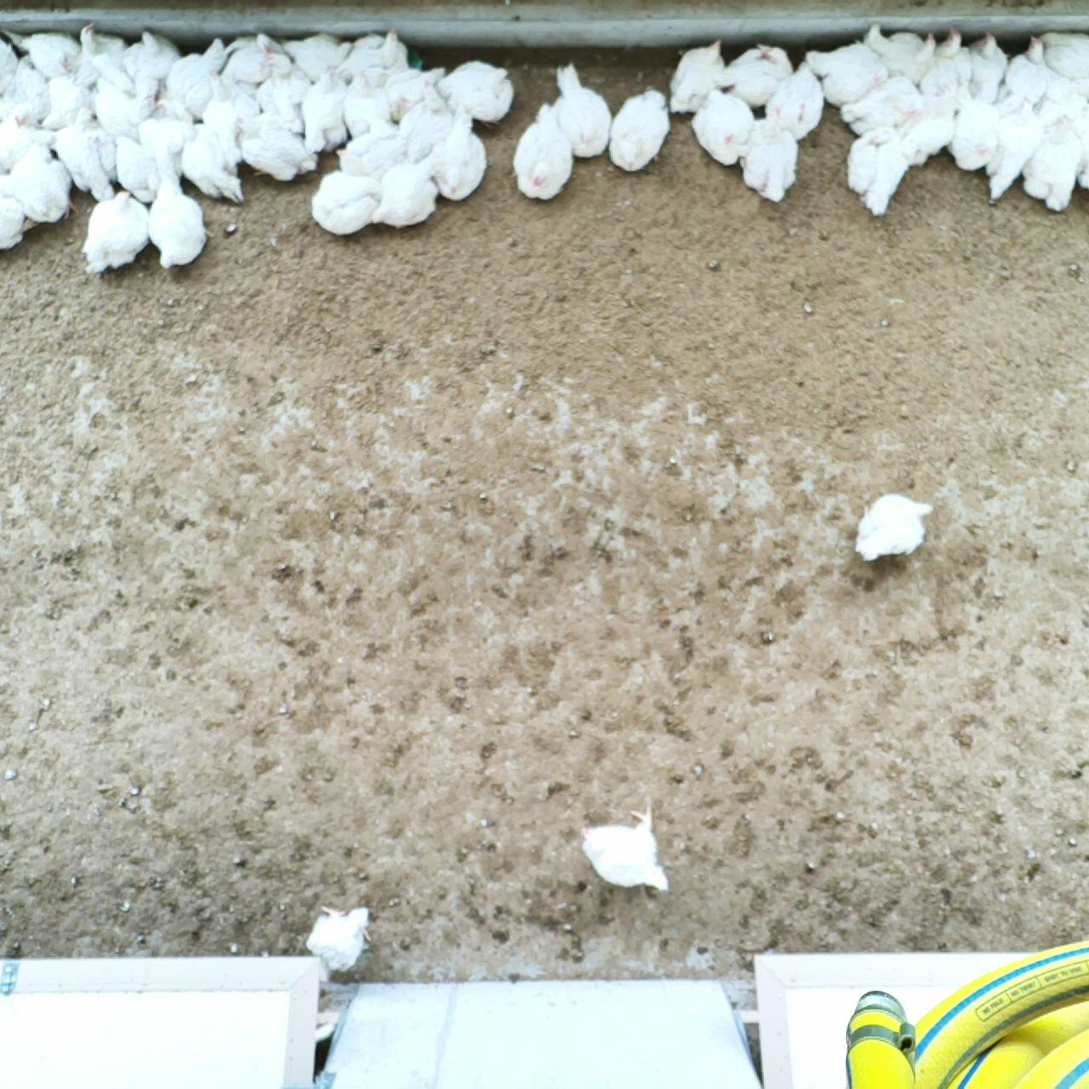chicken: (579, 801, 672, 898), (976, 93, 1051, 205), (840, 115, 912, 218), (508, 101, 579, 204), (48, 104, 121, 204), (548, 58, 616, 162), (852, 486, 940, 566), (1017, 113, 1085, 212), (230, 111, 321, 184), (837, 73, 926, 147), (77, 187, 149, 277), (299, 896, 375, 981), (148, 169, 211, 270), (606, 83, 676, 173), (156, 37, 230, 122), (423, 107, 490, 200), (800, 37, 888, 107), (0, 144, 77, 224), (737, 116, 805, 205), (175, 123, 246, 208), (761, 59, 830, 145), (434, 55, 517, 126), (369, 151, 444, 229), (690, 88, 761, 170), (717, 41, 797, 109), (669, 34, 734, 117), (248, 50, 313, 132), (310, 166, 385, 237), (861, 20, 939, 87), (902, 80, 961, 166), (995, 30, 1058, 110), (326, 120, 411, 179), (275, 26, 356, 87), (298, 64, 351, 156), (395, 91, 462, 163), (334, 29, 413, 89), (129, 98, 193, 171), (379, 63, 450, 128), (104, 128, 164, 203), (29, 70, 100, 133), (216, 30, 286, 92), (85, 65, 145, 137), (4, 25, 85, 78), (945, 95, 998, 174), (0, 51, 54, 128), (1030, 64, 1089, 133), (923, 27, 978, 101), (958, 29, 1010, 107), (199, 81, 247, 164), (342, 69, 398, 138), (79, 21, 129, 89), (0, 109, 47, 174), (125, 33, 179, 86), (1037, 26, 1089, 79), (0, 191, 37, 249), (0, 32, 20, 94)
